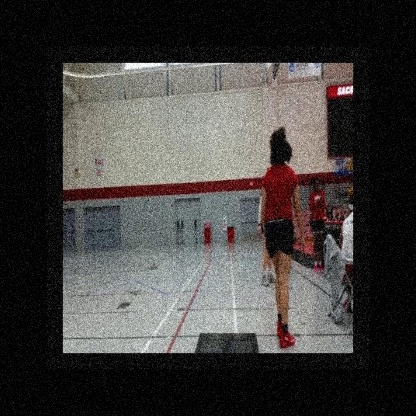lateral_flexion_left: (260, 124, 306, 353)
stance_width_narrow: (260, 161, 296, 353)
